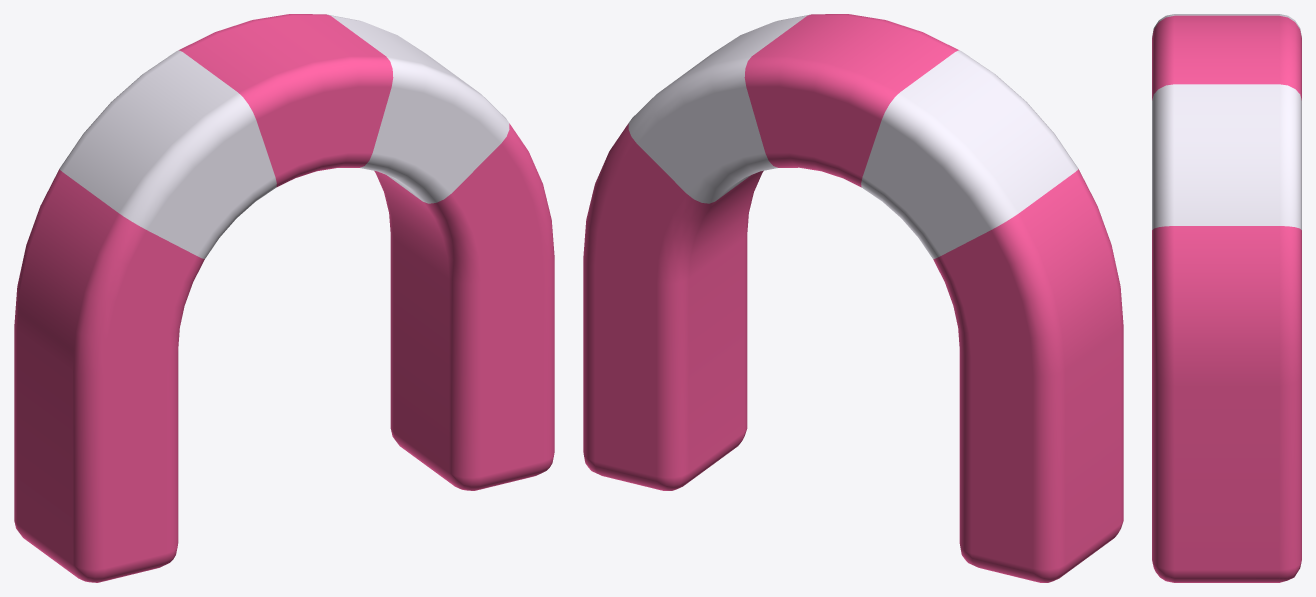
The model's file is arch_2.glb.
3 renders of one model, left to right at view 1: azimuth 30°, elevation 25°; view 2: azimuth 150°, elevation 25°; view 3: azimuth 270°, elevation 25°, orthographic. The views are drawn at different scales.
Visible parts, largest first — view 1: arch_2; view 2: arch_2; view 3: arch_2.
Boxes of the visible parts, x1,y1,x2,y2 form: arch_2: (14, 14, 554, 582); arch_2: (583, 14, 1123, 582); arch_2: (1152, 14, 1301, 582).
Size of the model in its own units: 3.5 by 3.25 by 1.
1 material, 1 textured.
